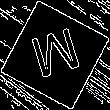M_S: (25, 24, 85, 86)
